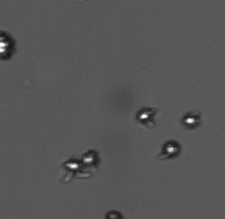Living Cell: (1, 31, 20, 60), (159, 139, 183, 159), (135, 106, 157, 123), (62, 156, 83, 172), (182, 111, 199, 129), (81, 150, 98, 165)
